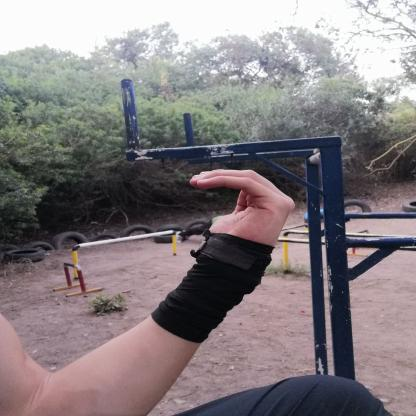HAA: (170, 157, 314, 267)
